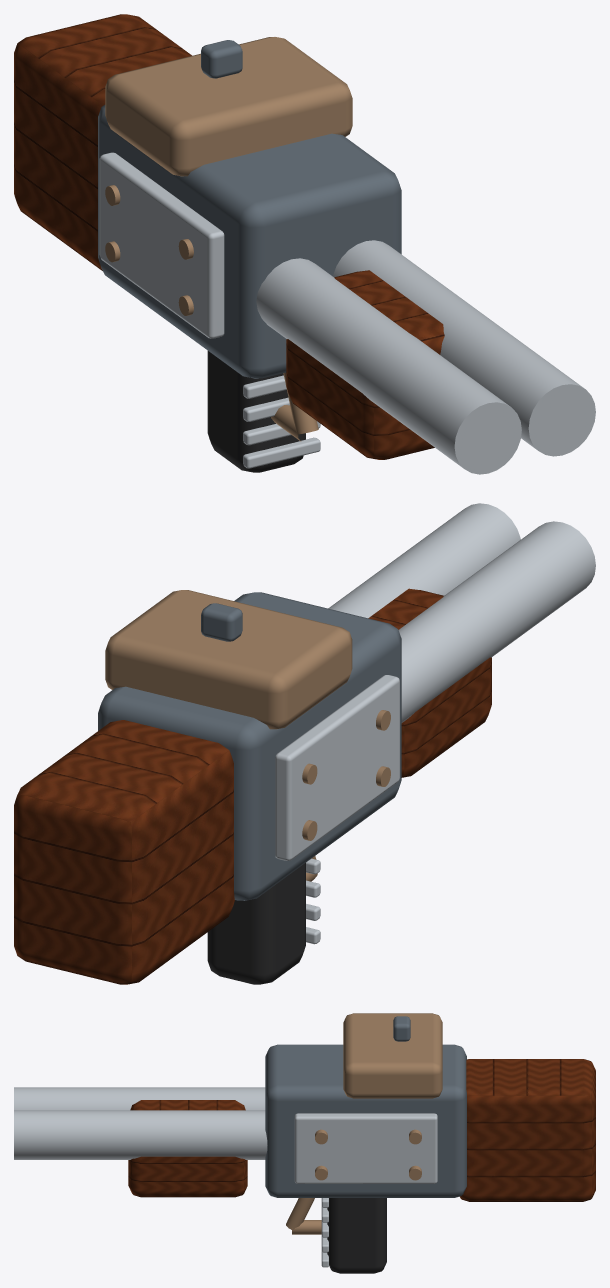
The model's file is arena-shooter-map-kit-shotgun-pickup-4d710f7c__23137.glb.
3 renders of one model, top to bottom at view 1: azimuth 30°, elevation 25°; view 2: azimuth 150°, elevation 25°; view 3: azimuth 270°, elevation 25°, orthographic. The views are drawn at different scales.
Visible parts, largest first — view 1: shotgun-pickup; view 2: shotgun-pickup; view 3: shotgun-pickup.
Boxes of the visible parts, bbox=[...] form: shotgun-pickup: bbox=[14, 14, 595, 474]; shotgun-pickup: bbox=[14, 503, 595, 984]; shotgun-pickup: bbox=[14, 1013, 595, 1273].
Bounding box in the file's own units: 0.307 × 0.55 × 1.17.
Materials: 5 (1 with a texture image).
